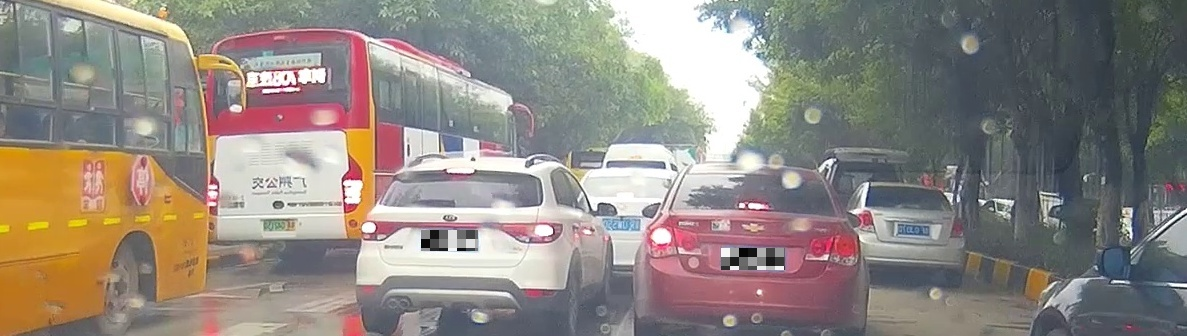L_light: (644, 223, 701, 259), (360, 220, 407, 241)
R_light: (804, 233, 859, 265), (498, 222, 563, 244)
T_light: (736, 201, 773, 211), (445, 167, 476, 175)
day-brake: (354, 158, 567, 336)
day-left: (632, 161, 865, 336)
plate_1: (421, 230, 478, 251)
plate_2: (721, 248, 785, 270)
